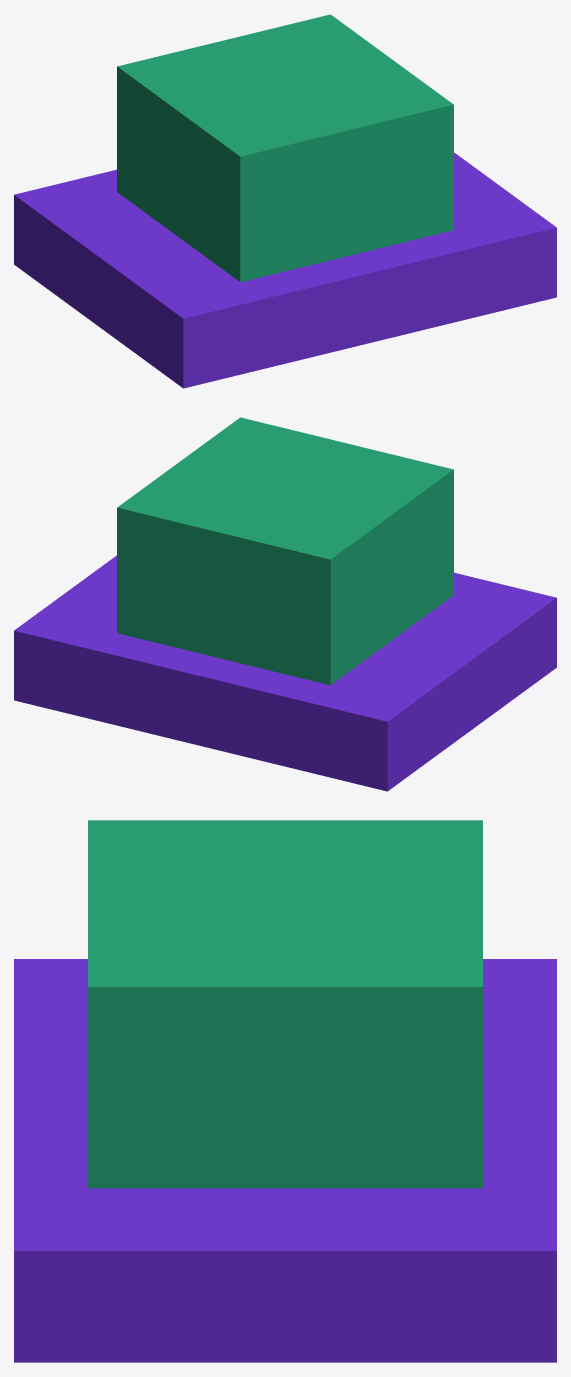
File: spike-object-lv1.glb
3 renders of one model, top to bottom at view 1: azimuth 30°, elevation 25°; view 2: azimuth 150°, elevation 25°; view 3: azimuth 270°, elevation 25°, orthographic. The views are drawn at different scales.
Parts seen in each view (by area): view 1: Growth1, Base; view 2: Growth1, Base; view 3: Growth1, Base.
Part boxes in pixels (<box>): Growth1: <box>117,14,453,282</box>; Base: <box>14,152,556,388</box>; Growth1: <box>117,417,453,685</box>; Base: <box>14,555,556,791</box>; Growth1: <box>88,820,482,1188</box>; Base: <box>14,959,556,1362</box>.
Size of the model in its own units: 1.4 by 0.7 by 1.1.
